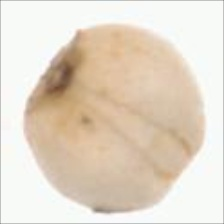L5: (73, 77, 194, 182), (24, 29, 87, 116)
L6: (22, 22, 207, 215)
